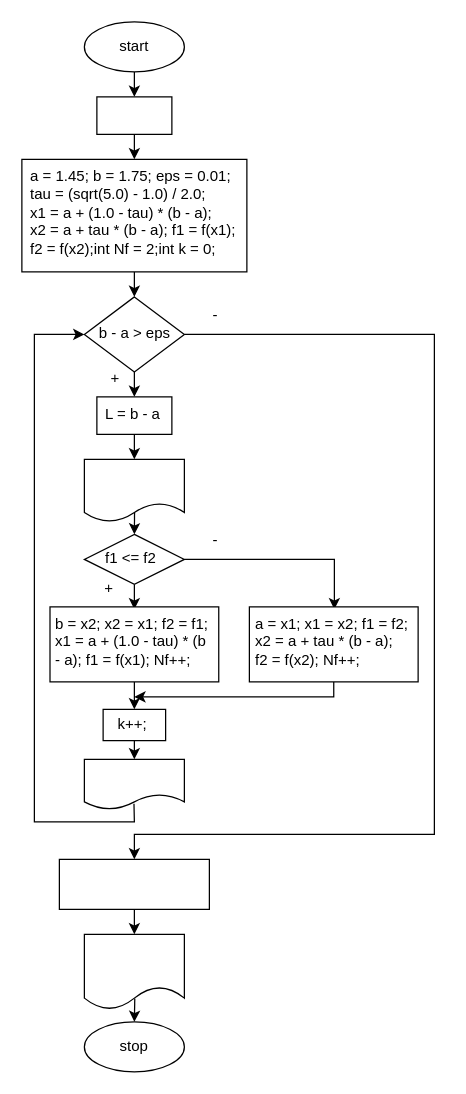
Some shapes in this 466 by 1094 pixel diagram are drawn without their labels. The box of each missing label's shape, as (x1, y1, x2, y2) in pixels:
(b - a) / L: (83, 758, 184, 809)
a, b, b-a, k, Nf, x_star, f_star: (83, 933, 184, 1009)
f(x): (96, 96, 172, 134)
k, a, b, x1, x2, f1, f2, L: (83, 458, 184, 522)
x_star = (a + b) / 2.0; f_star = f(x_star);: (58, 858, 209, 909)
